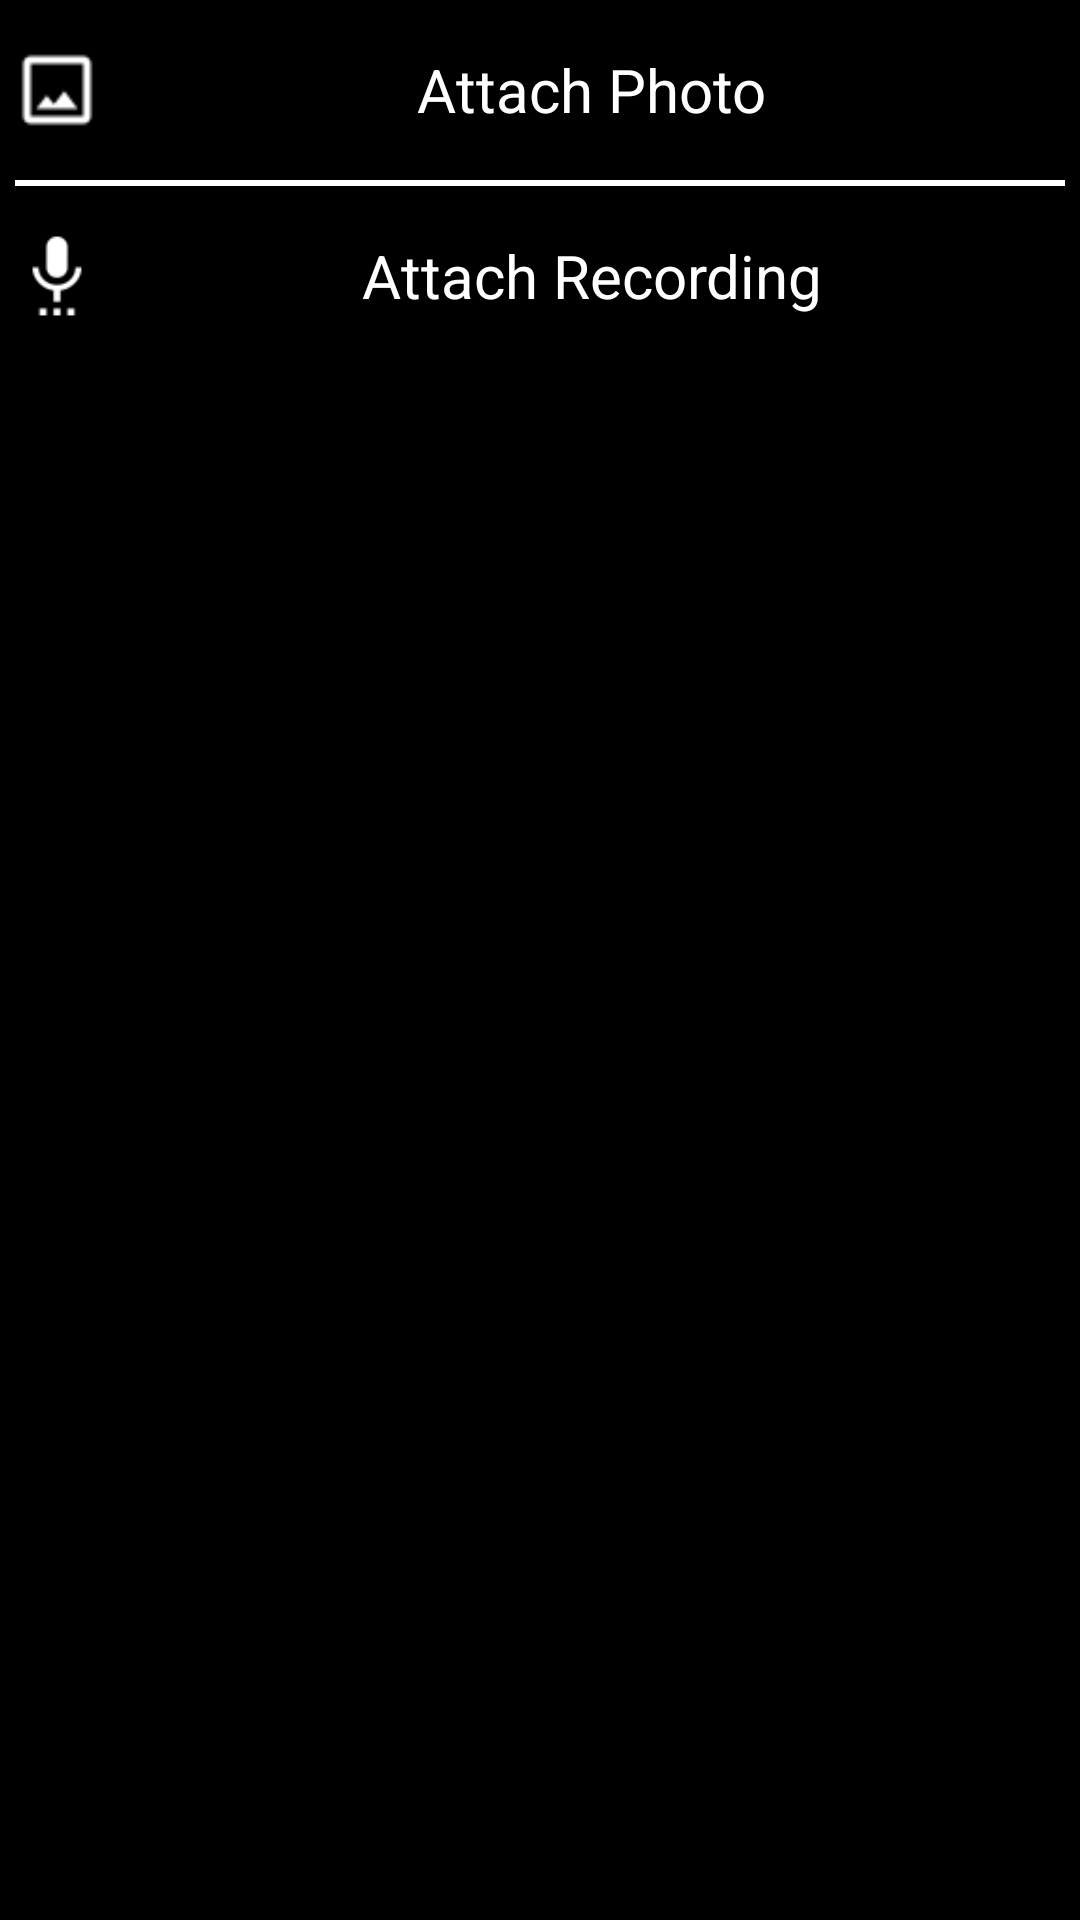

Where icons sit on this 1080px×1920px app screen, as (x1, y1, x2, y2):
voice note: (32, 236, 82, 316)
